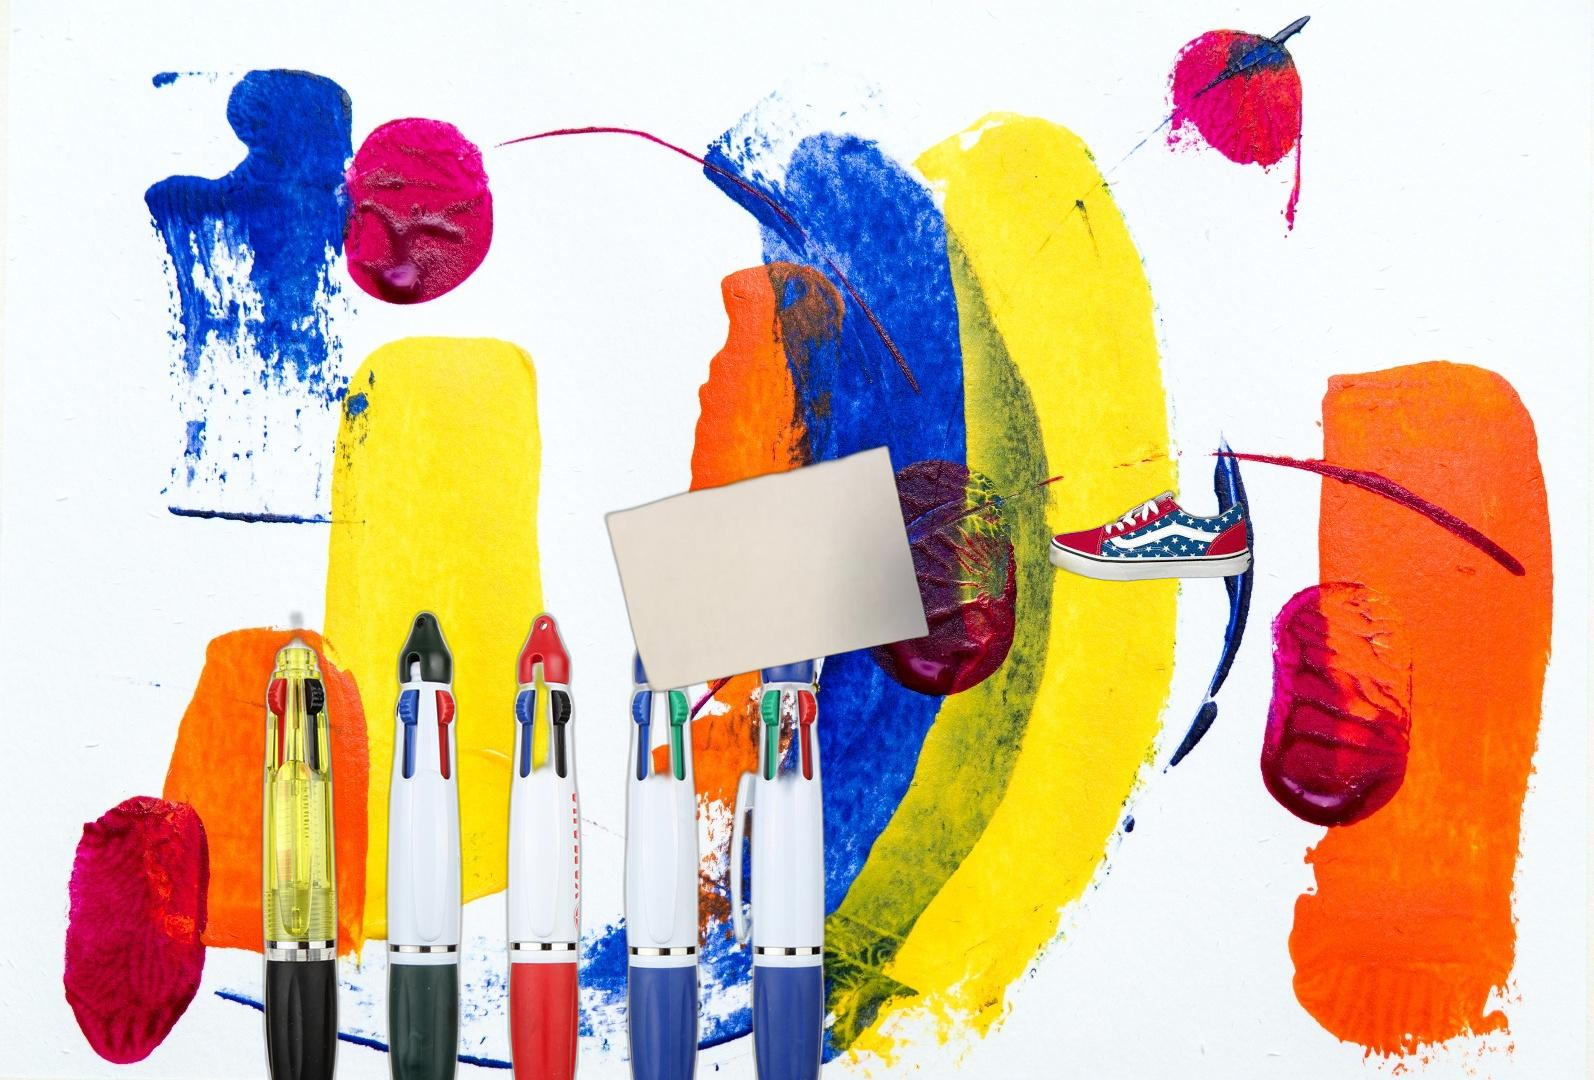paper: (601, 441, 934, 695)
penholder: (255, 604, 833, 1080)
shoes: (1045, 488, 1254, 585)
